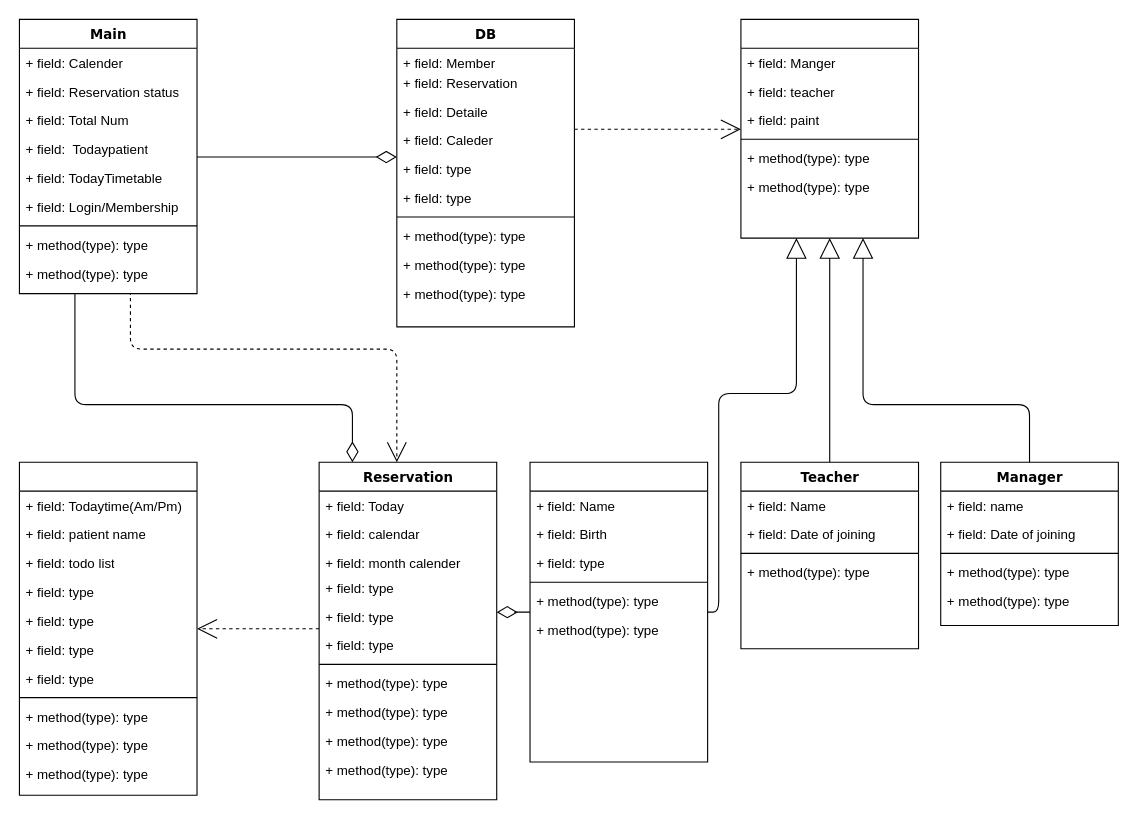
Some shapes in this 1138 by 819 pixel diagram are drawn without their labels. Here are the shapes that lost their labels. From the top down, the box of each, then its label:
(740, 18, 919, 238): MemberShip
(18, 461, 197, 795): Detaile
(529, 461, 708, 762): patient
